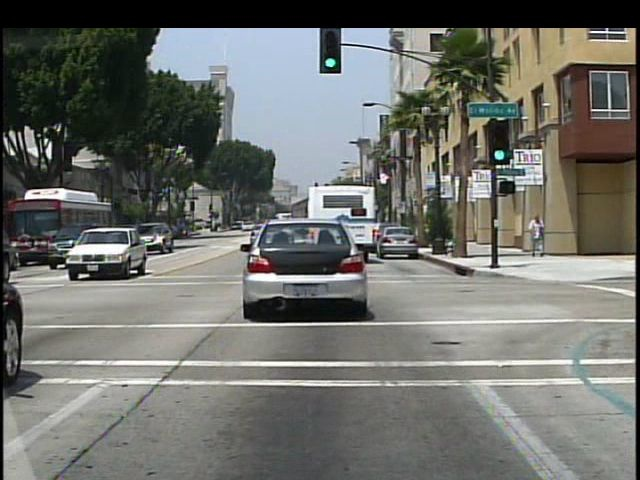person: (527, 213, 547, 258)
